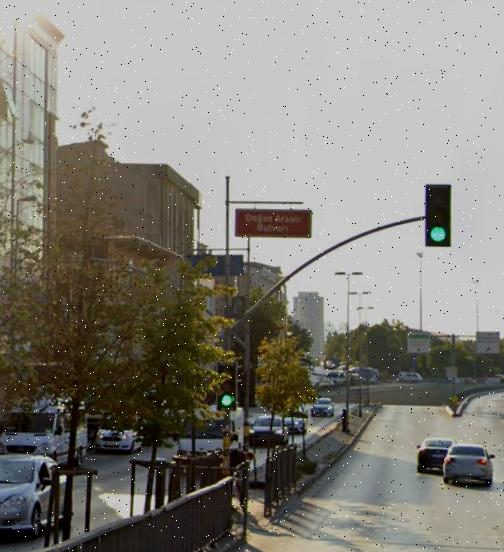greenlight: (423, 180, 454, 250), (215, 358, 239, 412)
